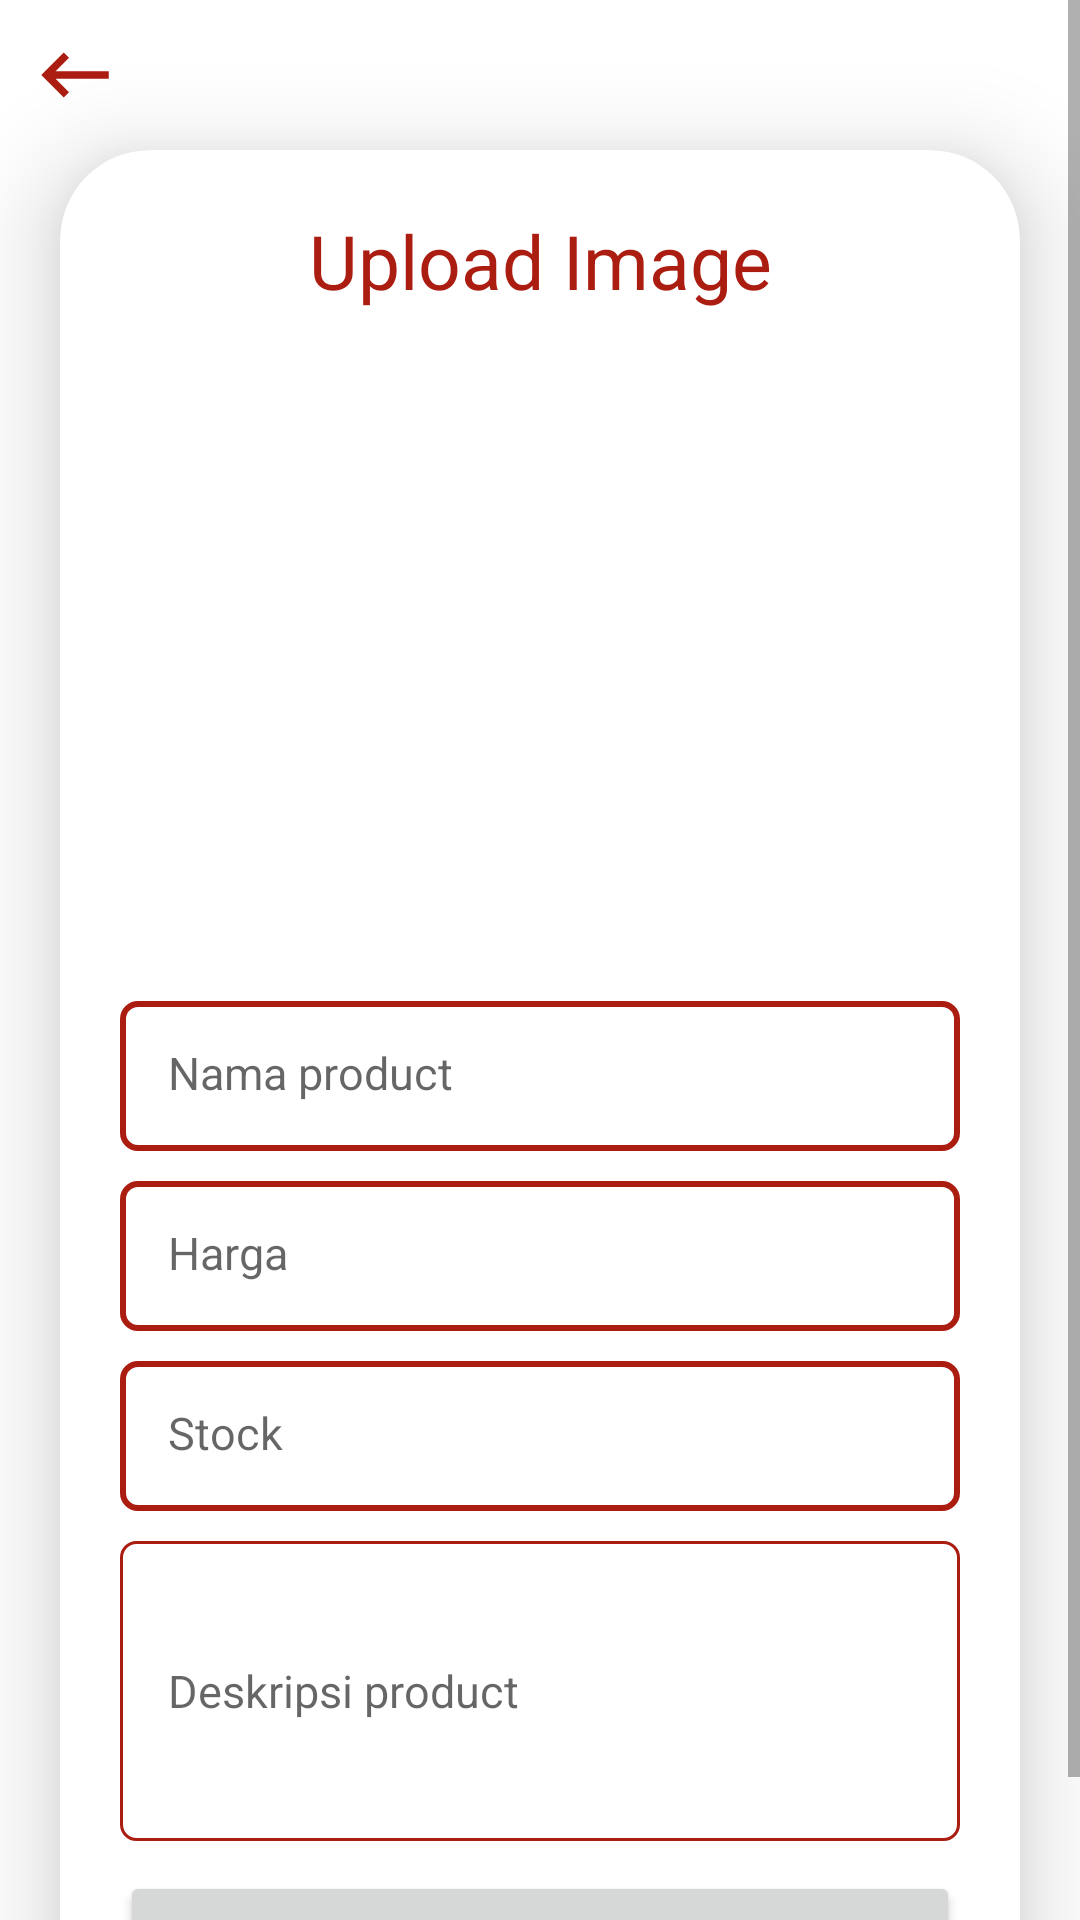

Screen size 1080px×1920px. Icon name, then its box in pixels as (x1, y1, x2, y2):
keyboard backspace: (41, 52, 109, 98)
